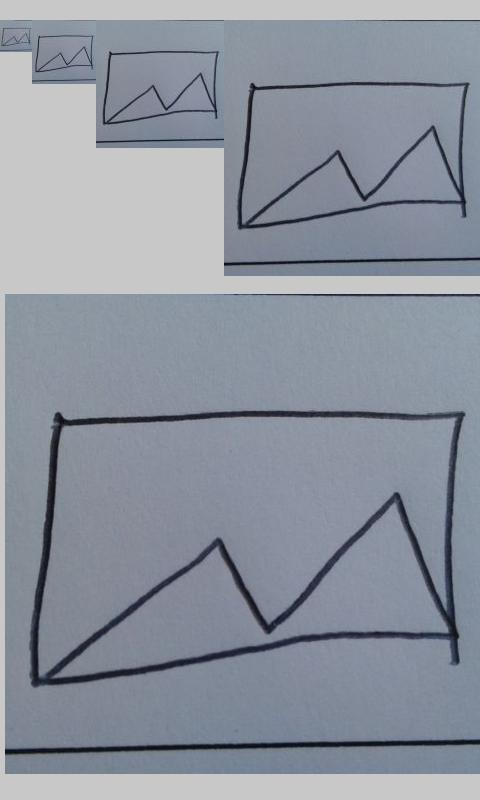image_view: (25, 406, 465, 689), (236, 80, 472, 231), (101, 50, 220, 126), (35, 34, 94, 74), (1, 27, 31, 47)
